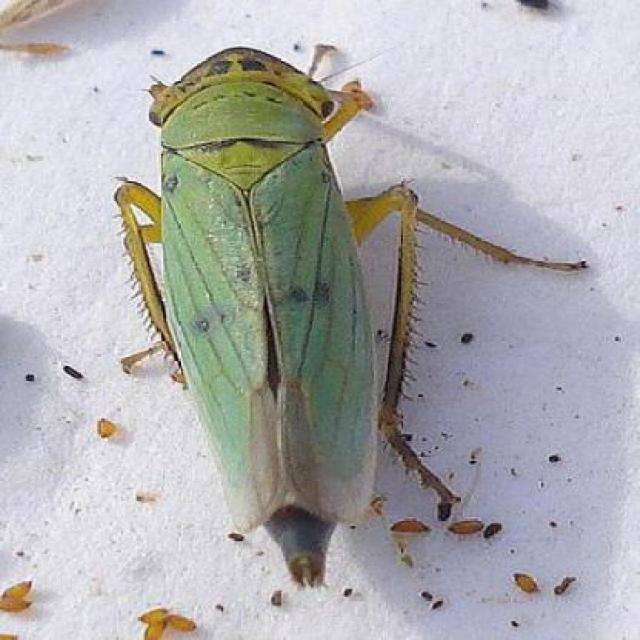green-leafhopper: (131, 49, 423, 574)
